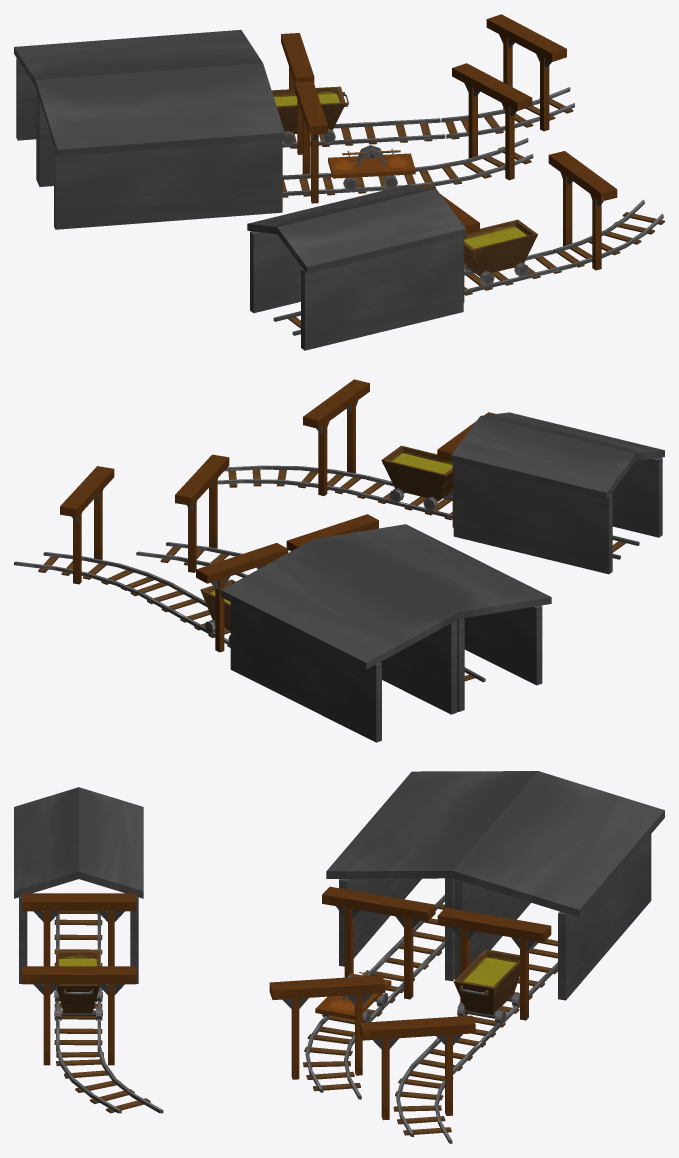
3 views of the same model, one above another, from view 1: azimuth 30°, elevation 25°; view 2: azimuth 150°, elevation 25°; view 3: azimuth 270°, elevation 25° (orthographic). The views are drawn at different scales.
Parts seen in each view (by area): view 1: Cube_0; view 2: Cube_0; view 3: Cube_0.
Part boxes in pixels (x1,y1,x2,y2): Cube_0: (14,14,664,350); Cube_0: (14,379,664,742); Cube_0: (14,771,664,1143).
Bounding box in the file's own units: 45.59 × 8.62 × 44.5.
1 material, 1 textured.
